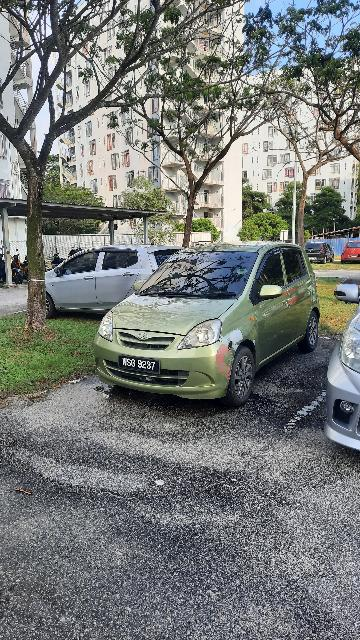License_Plate: (117, 355, 163, 378)
car: (94, 233, 327, 403)
